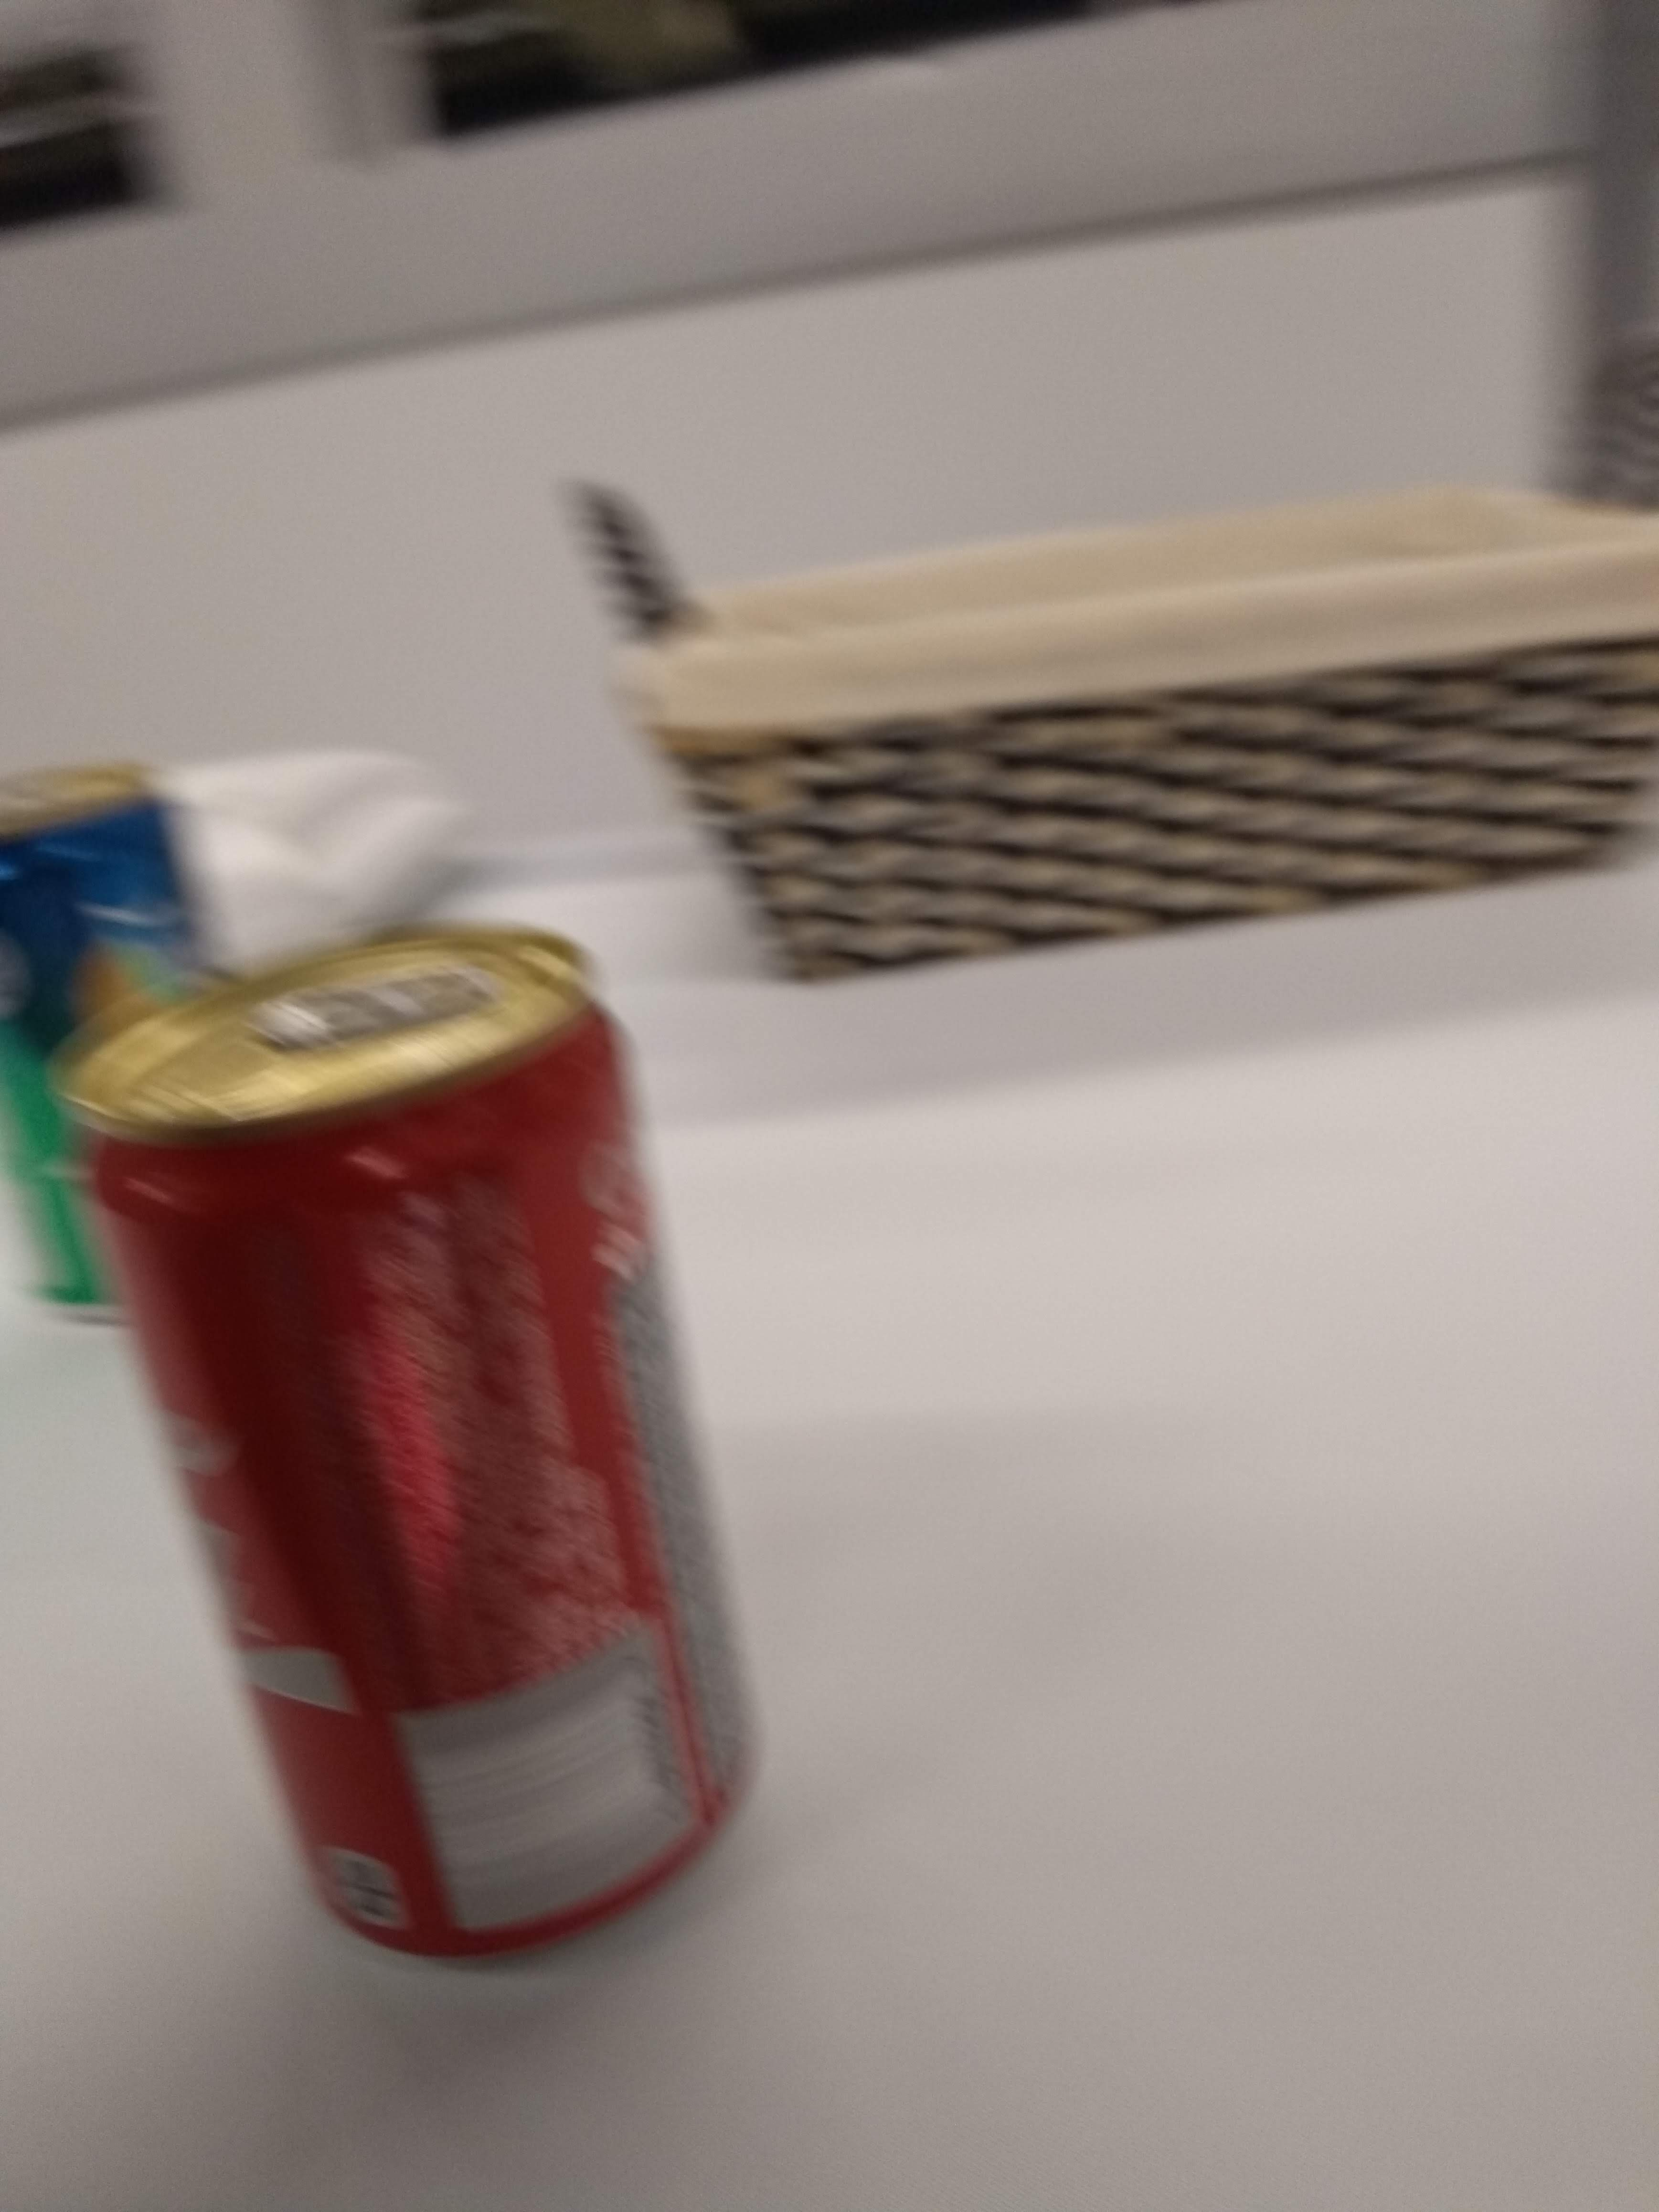basket: (528, 286, 1659, 996)
coke: (23, 902, 789, 1998)
